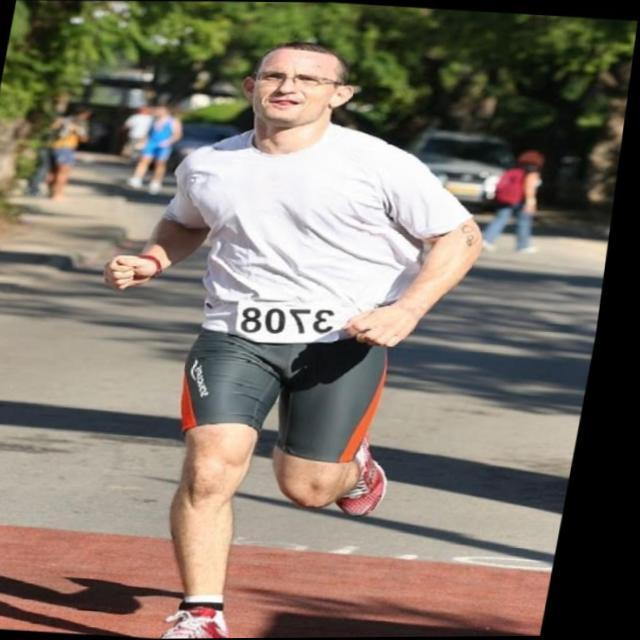dorsal: (233, 292, 368, 350)
